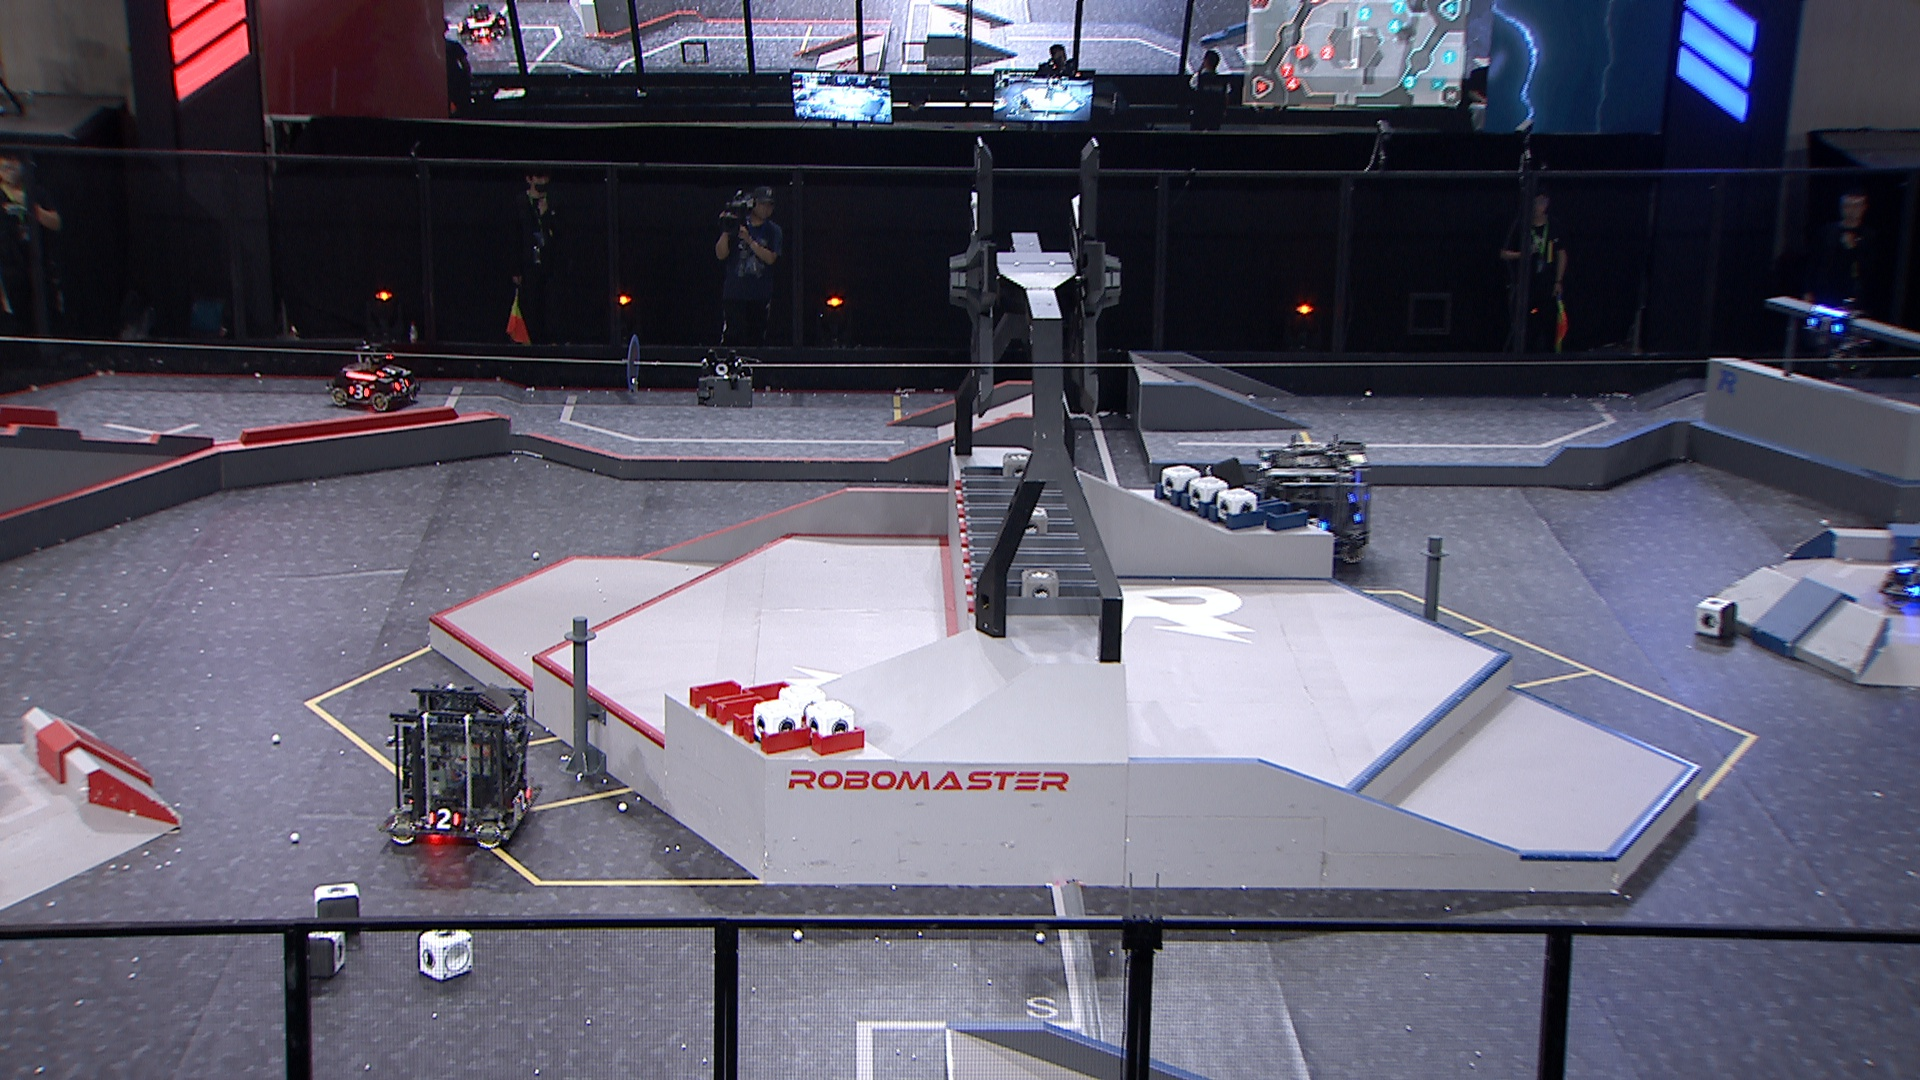armor: (427, 807, 463, 827), (509, 789, 533, 818), (1808, 315, 1840, 328), (1894, 556, 1916, 575), (343, 384, 368, 398), (377, 363, 400, 378), (1305, 514, 1329, 527), (394, 376, 409, 392)
car: (381, 679, 538, 851), (1250, 431, 1375, 568), (327, 339, 422, 413), (1878, 529, 1920, 615)
ignore: (456, 7, 506, 49)
watcher: (1803, 291, 1870, 376)
